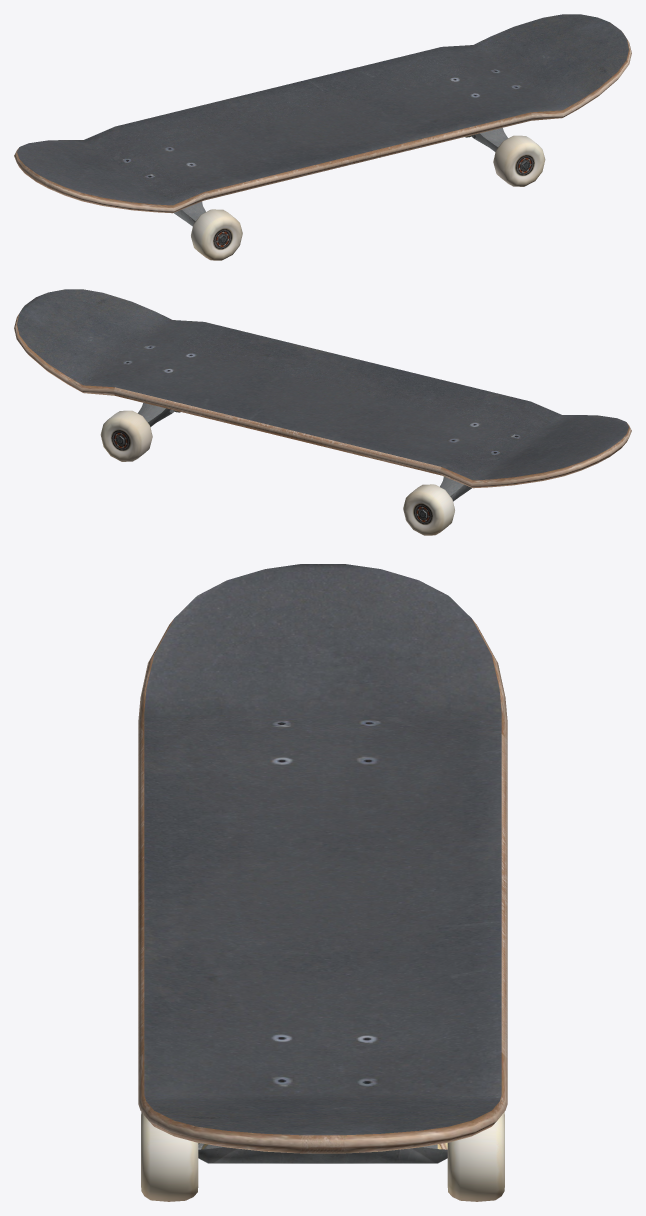
Rendered from newboard.glb.
3 views of the same model, one above another, from view 1: azimuth 30°, elevation 25°; view 2: azimuth 150°, elevation 25°; view 3: azimuth 270°, elevation 25° (orthographic). The views are drawn at different scales.
Visible parts, largest first — view 1: Skateboard; view 2: Skateboard; view 3: Skateboard.
Boxes of the visible parts, left/top/right/bottom form: Skateboard: left=14, top=14, right=631, bottom=260; Skateboard: left=14, top=289, right=631, bottom=535; Skateboard: left=138, top=564, right=507, bottom=1201.
Size of the model in its own units: 2.26 by 0.354 by 0.6123.
1 material, 1 textured.
